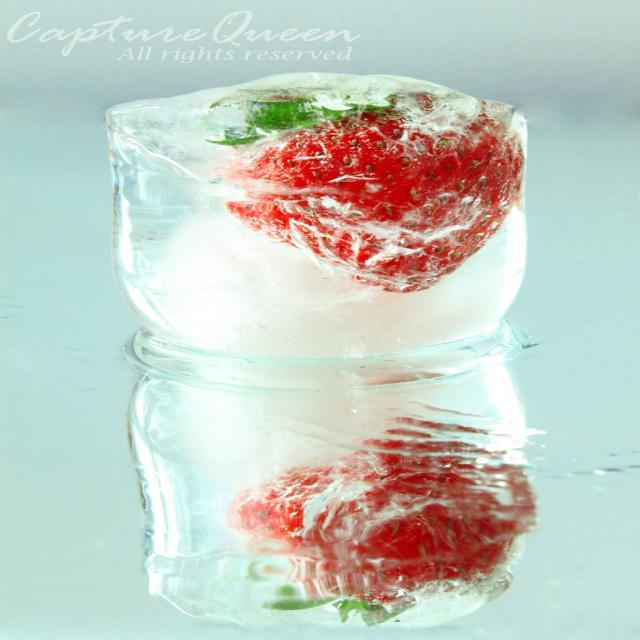Strawberry: (199, 82, 523, 293), (228, 423, 541, 626)
